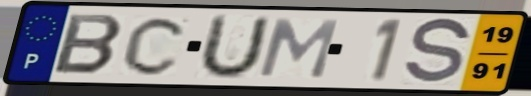1: (370, 17, 404, 85)
B: (50, 12, 127, 77)
C: (119, 14, 192, 77)
M: (254, 17, 343, 81)
S: (400, 15, 474, 88)
U: (193, 12, 274, 81)
